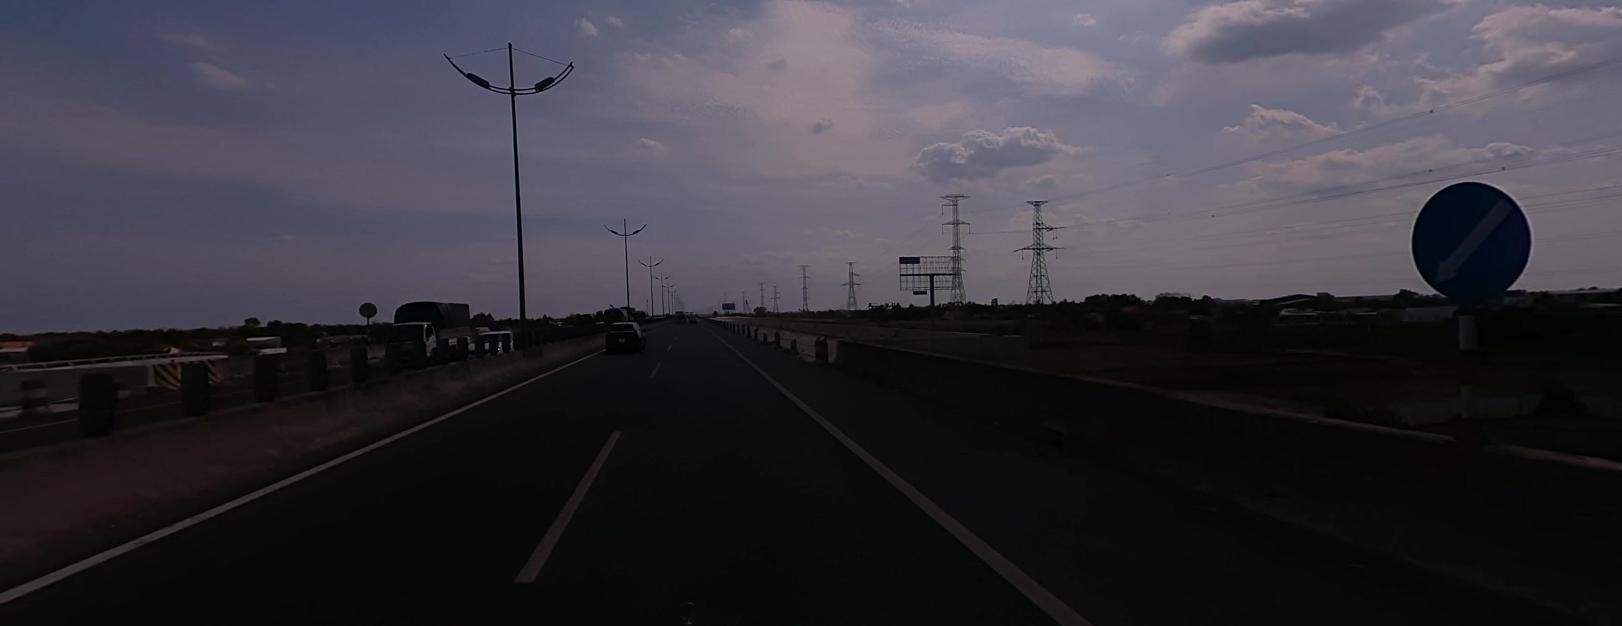Hieu lenh: (1410, 177, 1533, 301)
